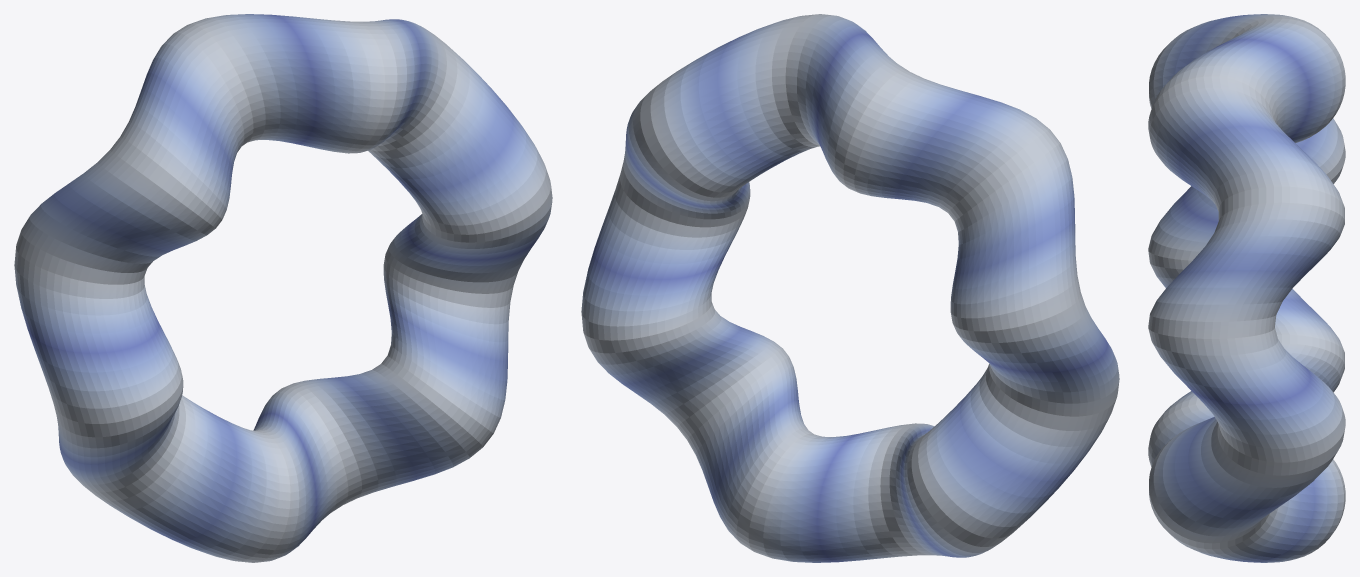
The model's file is step_8.glb.
The picture shows the model from 3 angles, left to right: view 1: azimuth 30°, elevation 25°; view 2: azimuth 150°, elevation 25°; view 3: azimuth 270°, elevation 25°; orthographic projection. The views are drawn at different scales.
Parts seen in each view (by area): view 1: world; view 2: world; view 3: world.
Boxes of the visible parts, bbox=[...] form: world: bbox=[14, 14, 552, 562]; world: bbox=[581, 14, 1119, 562]; world: bbox=[1148, 14, 1345, 562].
Size of the model in its own units: 26 by 26 by 9.35.
